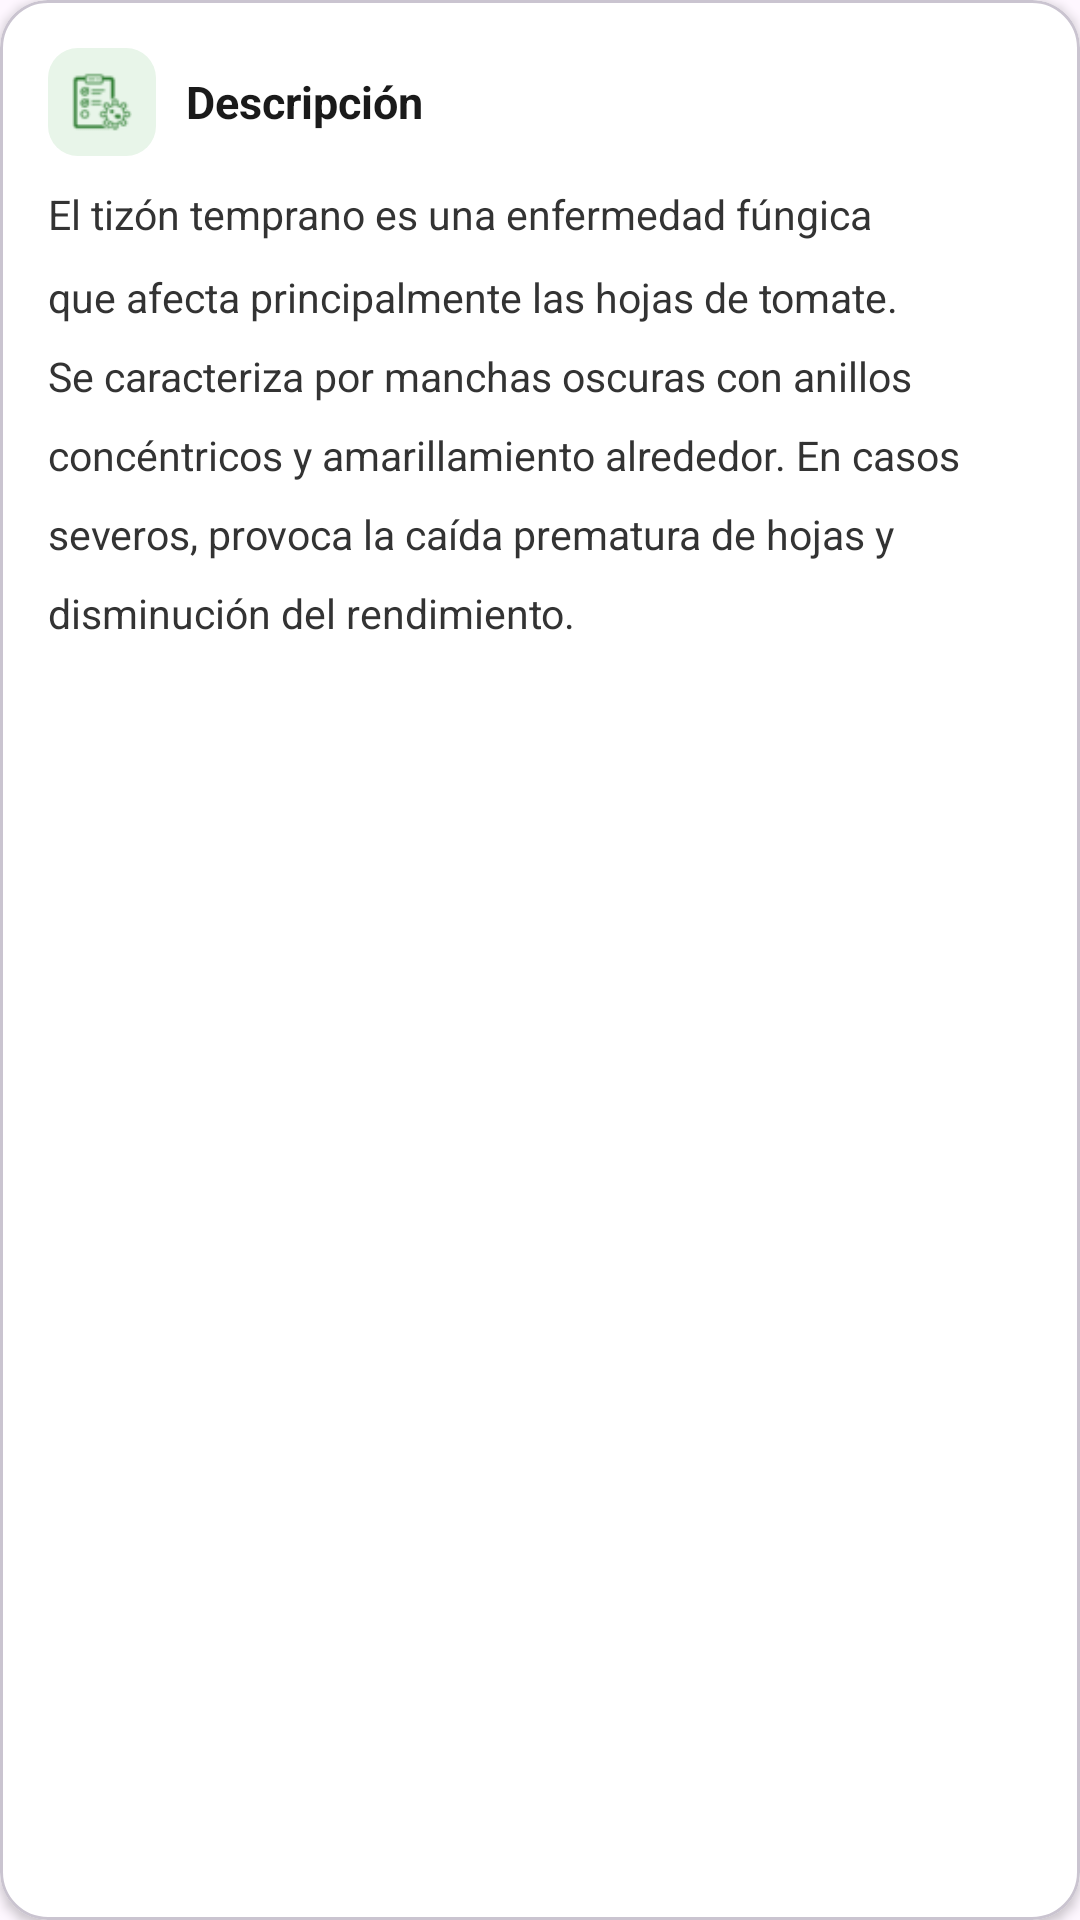

Icon click points for this 1080×1920 phone screenshot, format (x=x, y=y):
virus: (x=102, y=102)
